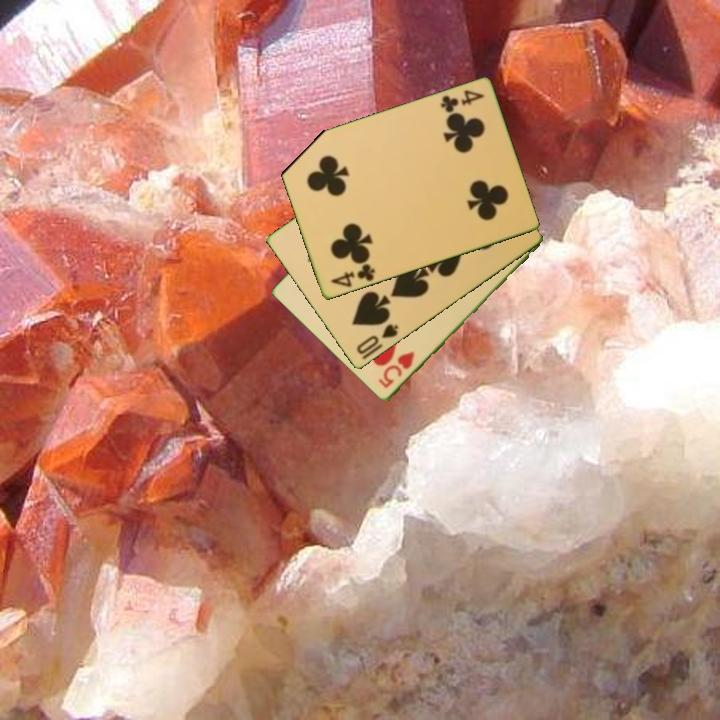10s: (353, 321, 402, 358)
4c: (327, 261, 378, 290), (436, 87, 487, 116)
5h: (374, 348, 417, 391)
